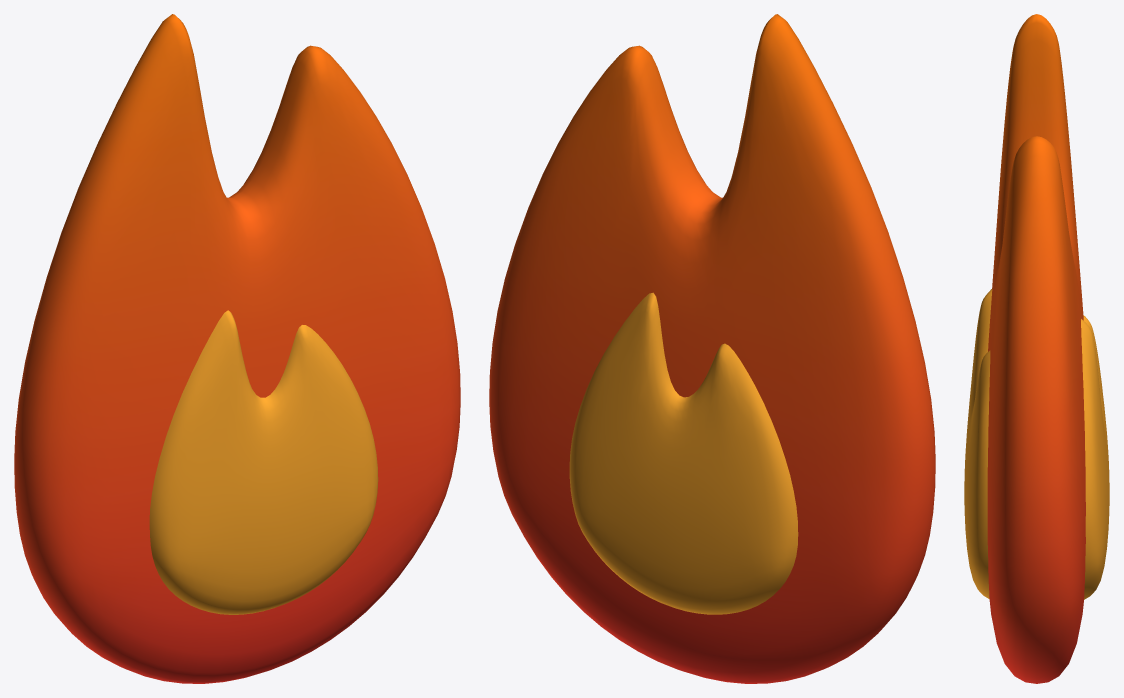
Rendered from fire.glb.
The picture shows the model from 3 angles, left to right: view 1: azimuth 30°, elevation 25°; view 2: azimuth 150°, elevation 25°; view 3: azimuth 270°, elevation 25°; orthographic projection. The views are drawn at different scales.
Parts seen in each view (by area): view 1: Cube.225; view 2: Cube.225; view 3: Cube.225.
Part boxes in pixels (x1,y1,x2,y2): Cube.225: (14, 14, 460, 683); Cube.225: (489, 14, 935, 683); Cube.225: (964, 14, 1109, 683).
Bounding box in the file's own units: 1.58 × 2.35 × 0.4996.
1 material, 1 textured.
